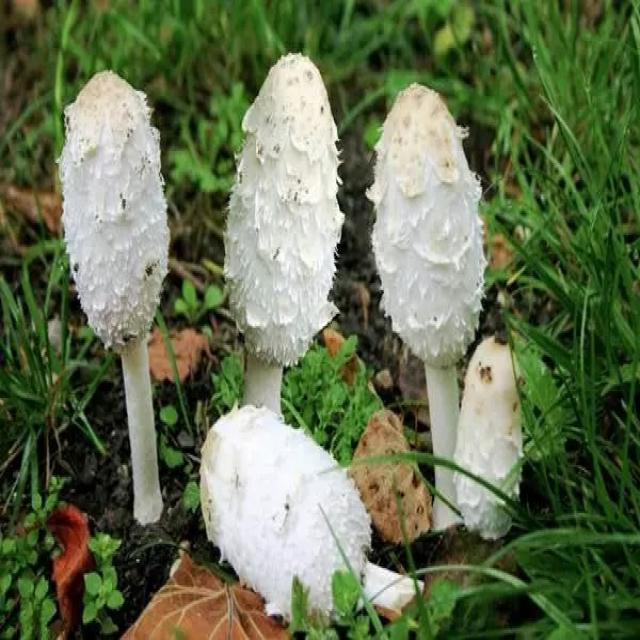Coprinus comatus: (368, 85, 482, 536), (199, 401, 424, 624), (62, 75, 170, 522), (223, 55, 338, 403), (454, 336, 523, 538)
